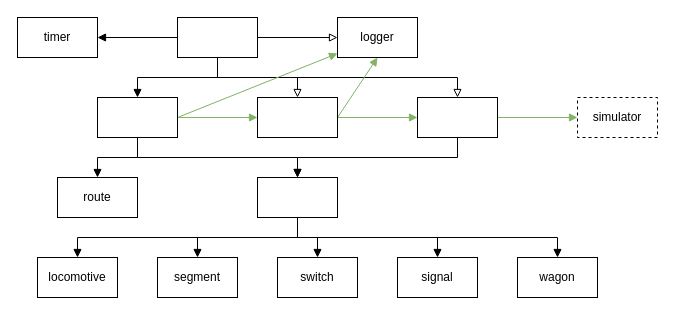
Image size: 675x315. Some labels were removed from this diagram. Each missing label, with the box of its shape:
GUI: (176, 16, 258, 58)
infrabel: (416, 96, 498, 138)
infrabelNode: (256, 96, 338, 138)
layout: (256, 176, 338, 218)
NMBS: (96, 96, 178, 138)
